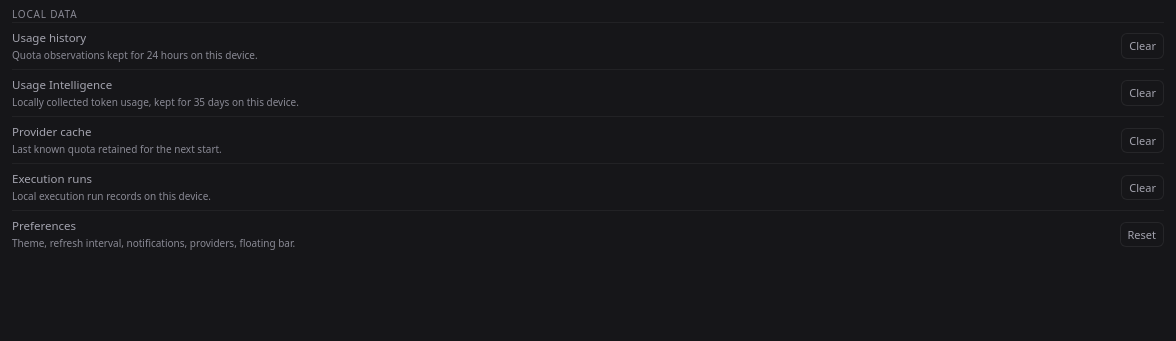
Test: local data section › holds focus in the confirmation and returns it to the control on cancel
This screenshot has width=1176, height=341.
Click the button with aria-label "Clear usage history" at (1143, 46), box [1121,33,1164,59]
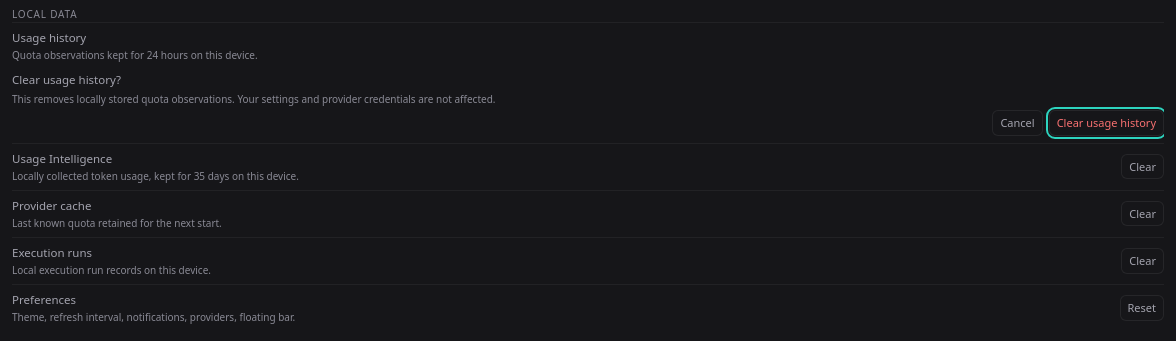
Click the button "Cancel" at (1018, 123), box [992,110,1043,136]
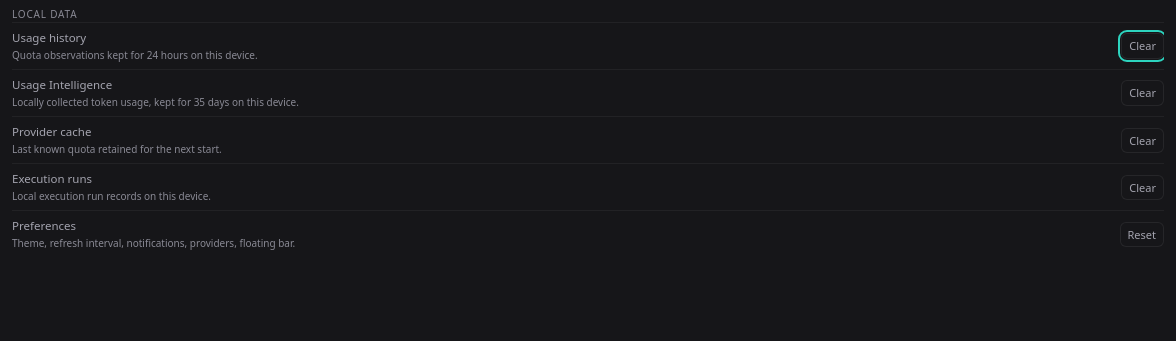
Expected: the text "Clear usage history?" is gone
